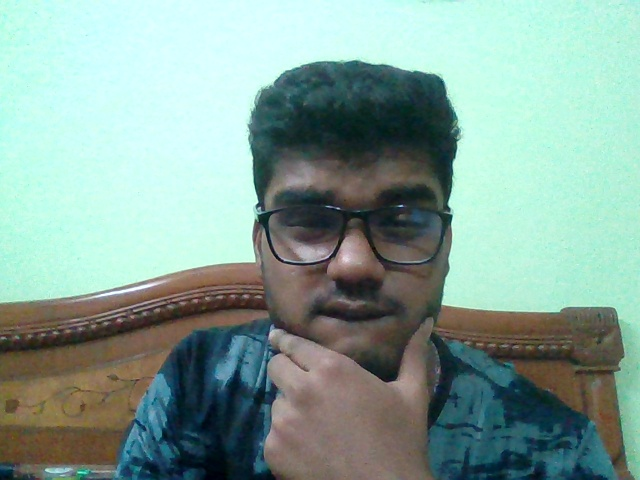Sheesh: (251, 61, 453, 480)
